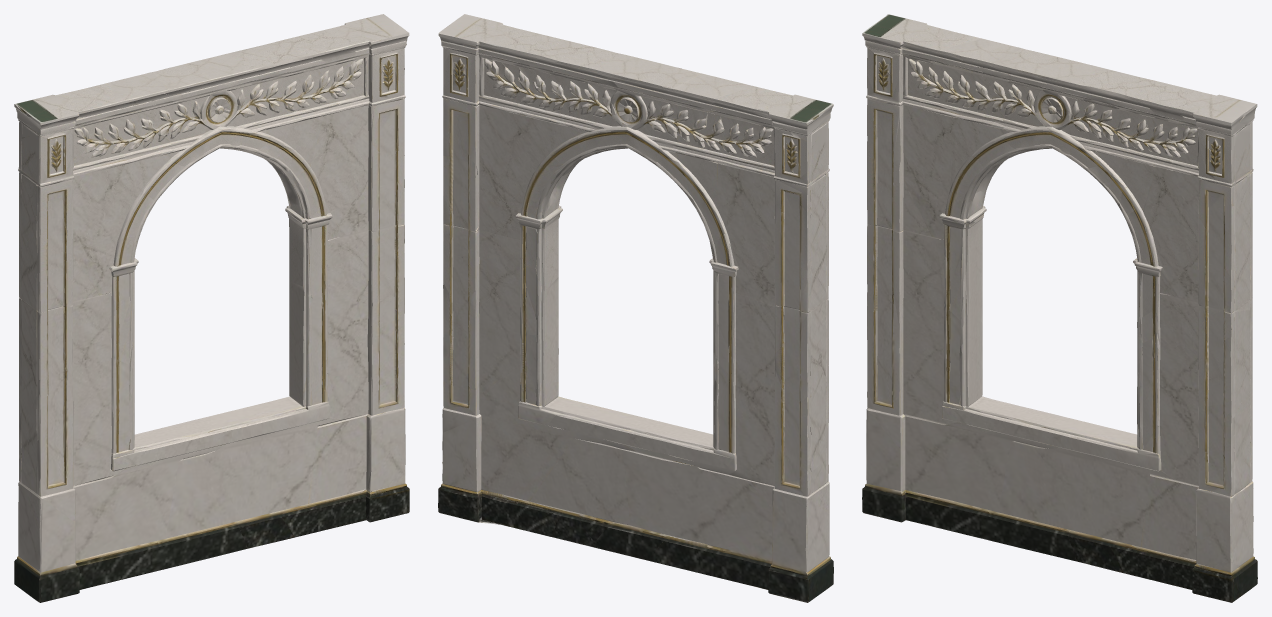
Rendered from museum-window-bay.glb.
The picture shows the model from 3 angles, left to right: view 1: azimuth 30°, elevation 25°; view 2: azimuth 150°, elevation 25°; view 3: azimuth 330°, elevation 25°; orthographic projection.
Parts seen in each view (by area): view 1: museum_window_bay_mesh; view 2: museum_window_bay_mesh; view 3: museum_window_bay_mesh.
Part boxes in pixels (bbox=[...]): museum_window_bay_mesh: bbox=[14, 14, 409, 602]; museum_window_bay_mesh: bbox=[438, 14, 833, 602]; museum_window_bay_mesh: bbox=[862, 14, 1257, 602].
Bounding box in the file's own units: 2.91 × 3.6 × 0.3616.
1 material, 1 textured.
